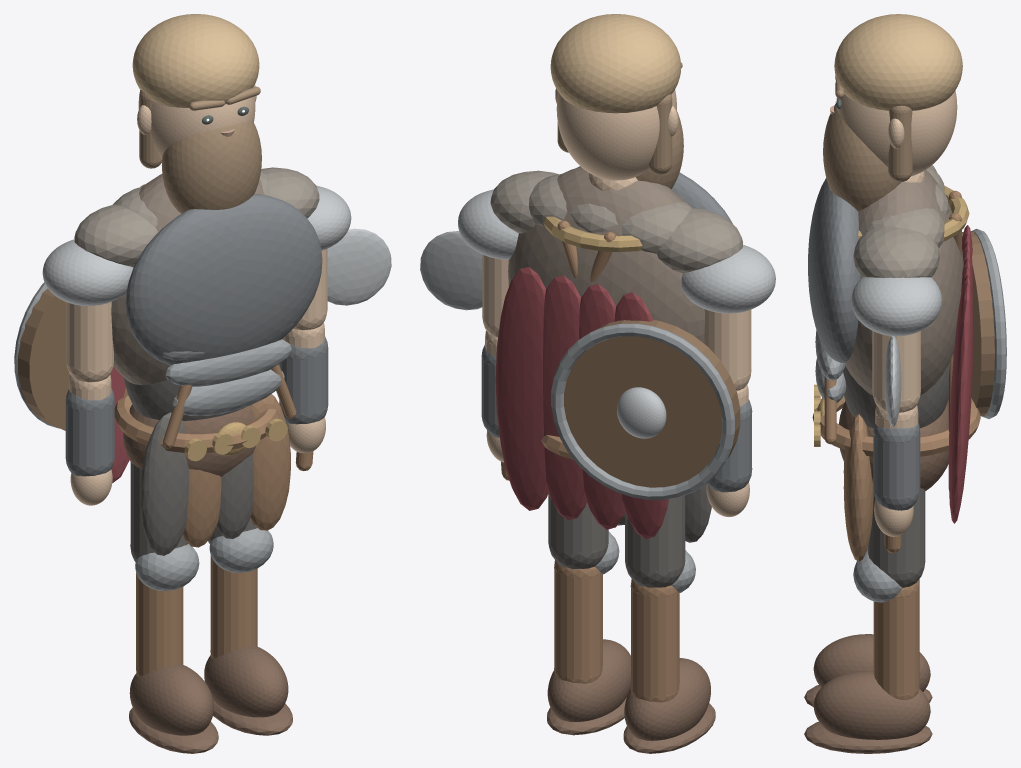
The model's file is Midgard_Hero_Viking_Skin_V2_YUP.glb.
The picture shows the model from 3 angles, left to right: view 1: azimuth 30°, elevation 25°; view 2: azimuth 150°, elevation 25°; view 3: azimuth 270°, elevation 25°; orthographic projection. The views are drawn at different scales.
Visible parts, largest first — view 1: ChestArmor, HairScalp, Beard, Shield, TunicPanel_0, Boot_L, Boot_R, Shoulder_L, DefaultWeapon_AxeBlade, Leg_R_Shin, Leg_L_Shin, Vambrace_L (+30 smaller); view 2: Shield, Torso, HairScalp, CapePanel_3, ShieldRim, Head, CapePanel_2, Leg_L_Shin, Leg_R_Shin, Shoulder_L, Boot_L, Boot_R (+24 smaller); view 3: HairScalp, Torso, ChestArmor, Boot_R, Leg_R_Shin, Shoulder_R, Head, Beard, CapePanel_3, FurMantle_4, Vambrace_R, Shield (+20 smaller).
Part boxes in pixels (x1,y1,x2,y2): ChestArmor: (125, 194, 322, 365); HairScalp: (132, 14, 259, 107); Beard: (161, 121, 261, 213); Shield: (17, 288, 70, 430); TunicPanel_0: (140, 412, 189, 555); Boot_L: (129, 664, 213, 735); Boot_R: (204, 646, 288, 717); Shoulder_L: (42, 239, 133, 305); DefaultWeapon_AxeBlade: (327, 228, 391, 305); Leg_R_Shin: (210, 555, 257, 658); Leg_L_Shin: (136, 573, 183, 676); Vambrace_L: (65, 388, 114, 476); Shield: (564, 320, 740, 487); Torso: (508, 167, 704, 343); HairScalp: (550, 14, 681, 113); CapePanel_3: (495, 267, 548, 510); ShieldRim: (551, 323, 734, 499); Head: (556, 90, 676, 180); CapePanel_2: (543, 275, 586, 520); Leg_L_Shin: (630, 579, 679, 702); Leg_R_Shin: (554, 560, 602, 683); Shoulder_L: (681, 245, 775, 313); Boot_L: (624, 658, 710, 740); Boot_R: (547, 639, 630, 721); HairScalp: (834, 14, 962, 110); Torso: (845, 170, 963, 395); ChestArmor: (808, 178, 860, 362); Boot_R: (813, 670, 930, 739); Leg_R_Shin: (873, 580, 919, 700); Shoulder_R: (851, 277, 941, 336); Head: (836, 90, 957, 176); Beard: (823, 104, 901, 211); CapePanel_3: (948, 275, 973, 523); FurMantle_4: (853, 227, 940, 277); Vambrace_R: (873, 423, 920, 510); Shield: (962, 231, 994, 415).
Bounding box in the file's own units: 2.11 × 4.12 × 1.07.
